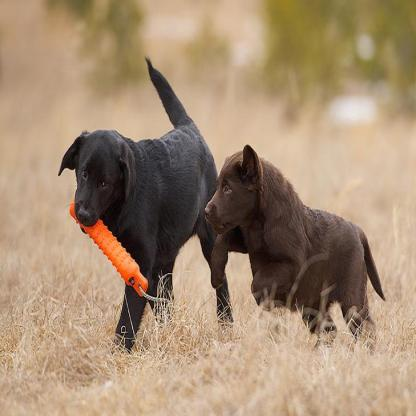Labarador Retriever: (56, 61, 233, 348), (207, 146, 385, 351)
